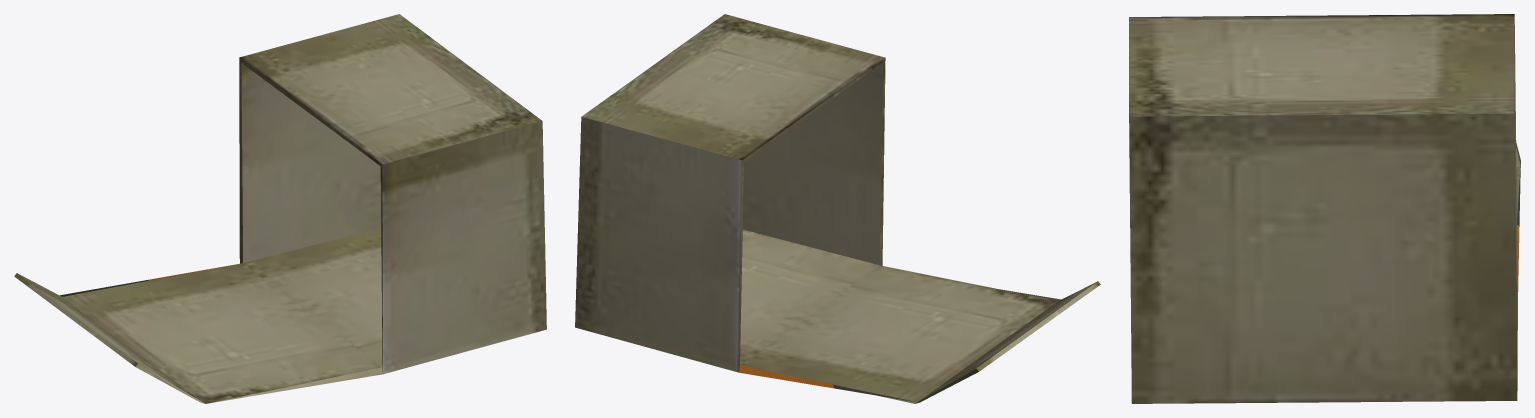
3 renders of one model, left to right at view 1: azimuth 30°, elevation 25°; view 2: azimuth 150°, elevation 25°; view 3: azimuth 270°, elevation 25°, orthographic. The views are drawn at different scales.
Visible parts, largest first — view 1: 0_lab_objects01; view 2: 0_lab_objects01; view 3: 0_lab_objects01.
Part boxes in pixels (x1,y1,x2,y2): 0_lab_objects01: [14, 14, 546, 403]; 0_lab_objects01: [575, 14, 1100, 403]; 0_lab_objects01: [1129, 14, 1520, 403].
Bounding box in the file's own units: 0.3098 × 0.1627 × 0.1968.
Materials: 1 (1 with a texture image).
